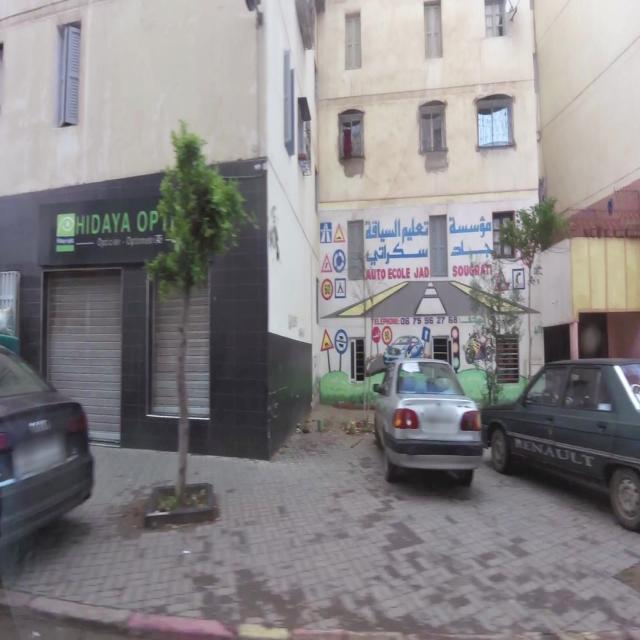car: (479, 354, 640, 533), (0, 330, 95, 583), (373, 356, 484, 487)
